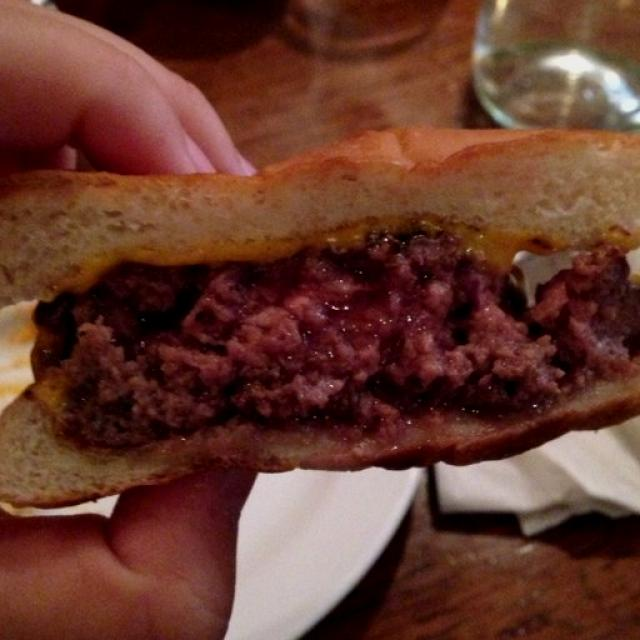burger: (0, 166, 640, 442)
